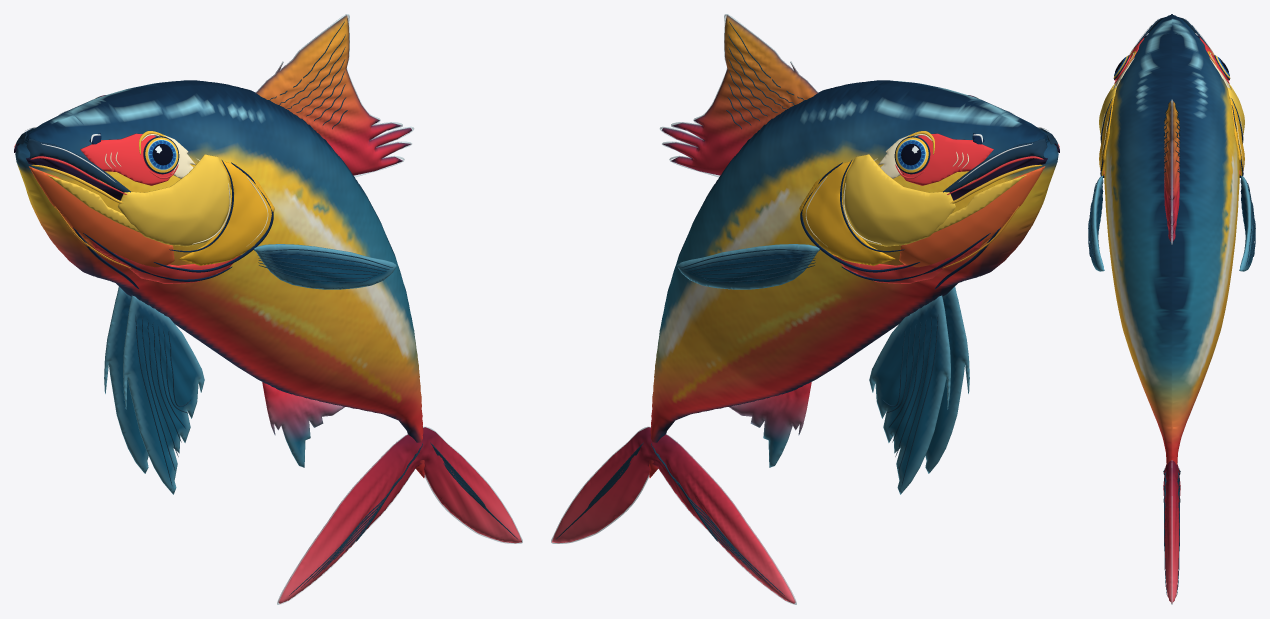
File: dongwon-tuna.glb
3 renders of one model, left to right at view 1: azimuth 30°, elevation 25°; view 2: azimuth 150°, elevation 25°; view 3: azimuth 270°, elevation 25°, orthographic. The views are drawn at different scales.
Parts seen in each view (by area): view 1: Web Painted body, Web Painted fin membranes, Web Painted fin membranes.001, Web Anatomy operculum, Web Anatomy jaw, Web Anatomy suboperculum, Web Fin ray pigment, Web Anatomy brow, Web Anatomy ink, Web Anatomy membrane, Web Anatomy maxilla, Web Fin ray pigment.001 (+5 smaller); view 2: Web Painted body, Web Painted fin membranes, Web Painted fin membranes.001, Web Anatomy operculum, Web Anatomy jaw, Web Anatomy suboperculum, Web Fin ray pigment, Web Anatomy brow, Web Anatomy ink, Web Anatomy membrane, Web Anatomy maxilla, Web Fin ray pigment.001 (+5 smaller); view 3: Web Painted body, Web Painted fin membranes, Web Painted fin membranes.001, Web Fin ray pigment, Web Anatomy suboperculum, Web Anatomy operculum, Web Anatomy ivory, Web Anatomy ink, Web Fin ray pigment.001, Web Anatomy brow, Web Polished cyan glass edges, Web Polished cyan glass edges.001.
Part boxes in pixels (bbox=[...]): Web Painted body: bbox=[15, 80, 424, 477]; Web Painted fin membranes: bbox=[104, 15, 411, 494]; Web Painted fin membranes.001: bbox=[278, 427, 521, 603]; Web Anatomy operculum: bbox=[117, 154, 230, 246]; Web Anatomy jaw: bbox=[28, 166, 174, 267]; Web Anatomy suboperculum: bbox=[178, 160, 274, 265]; Web Fin ray pigment: bbox=[135, 21, 392, 485]; Web Anatomy brow: bbox=[80, 95, 174, 185]; Web Anatomy ink: bbox=[62, 95, 273, 288]; Web Anatomy membrane: bbox=[91, 240, 240, 283]; Web Anatomy maxilla: bbox=[15, 128, 130, 192]; Web Fin ray pigment.001: bbox=[289, 442, 517, 595]; Web Painted body: bbox=[649, 80, 1058, 477]; Web Painted fin membranes: bbox=[662, 15, 969, 494]; Web Painted fin membranes.001: bbox=[552, 427, 795, 603]; Web Anatomy operculum: bbox=[843, 154, 956, 246]; Web Anatomy jaw: bbox=[899, 166, 1045, 267]; Web Anatomy suboperculum: bbox=[799, 160, 895, 265]; Web Fin ray pigment: bbox=[681, 21, 938, 485]; Web Anatomy brow: bbox=[899, 95, 993, 185]; Web Anatomy ink: bbox=[800, 95, 1011, 288]; Web Anatomy membrane: bbox=[833, 240, 982, 283]; Web Anatomy maxilla: bbox=[943, 128, 1058, 192]; Web Fin ray pigment.001: bbox=[556, 442, 784, 595]; Web Painted body: bbox=[1104, 14, 1239, 465]; Web Painted fin membranes: bbox=[1089, 100, 1254, 271]; Web Painted fin membranes.001: bbox=[1163, 460, 1180, 603]; Web Fin ray pigment: bbox=[1088, 103, 1255, 266]; Web Anatomy suboperculum: bbox=[1099, 98, 1244, 175]; Web Anatomy operculum: bbox=[1099, 83, 1244, 136]; Web Anatomy ivory: bbox=[1100, 45, 1243, 169]; Web Anatomy ink: bbox=[1100, 33, 1243, 177]; Web Fin ray pigment.001: bbox=[1163, 468, 1180, 596]; Web Anatomy brow: bbox=[1114, 36, 1229, 82]; Web Polished cyan glass edges: bbox=[1171, 99, 1172, 244]; Web Polished cyan glass edges.001: bbox=[1171, 460, 1172, 604].
Bounding box in the file's own units: 4.23 × 4.58 × 1.58.
